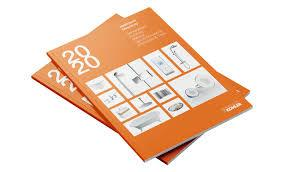paper: (31, 7, 253, 165)
